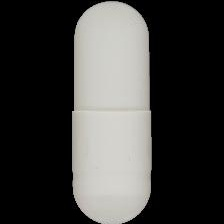68382-005: (0, 0, 224, 224)
